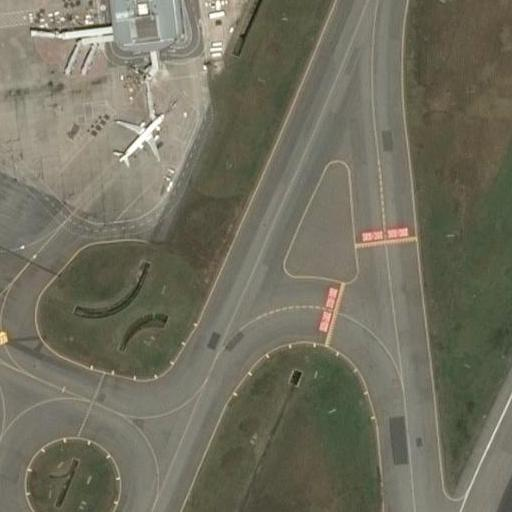Aircraft: (110, 108, 167, 169)
